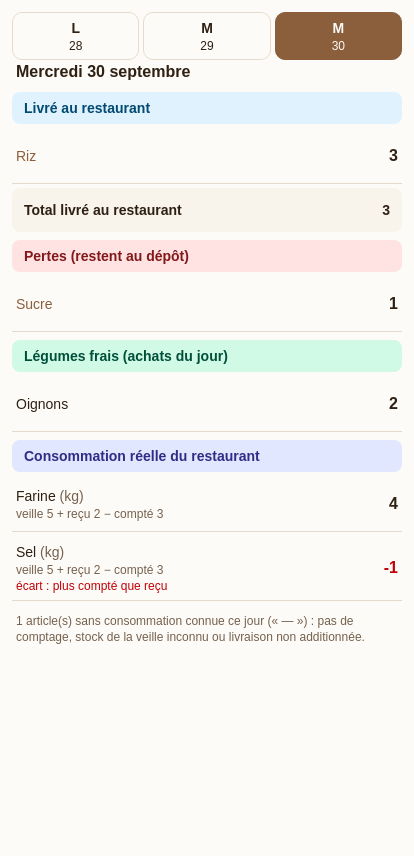
Test: Consommation sur téléphone › changer de jour change la liste ; un jour sans rien le dit
The width and height of the screenshot is (414, 856).
What coordinates should you click on to do the following:
click the button "M 29"
I would click on:
 (207, 36)
Its box is [143,12,271,60].
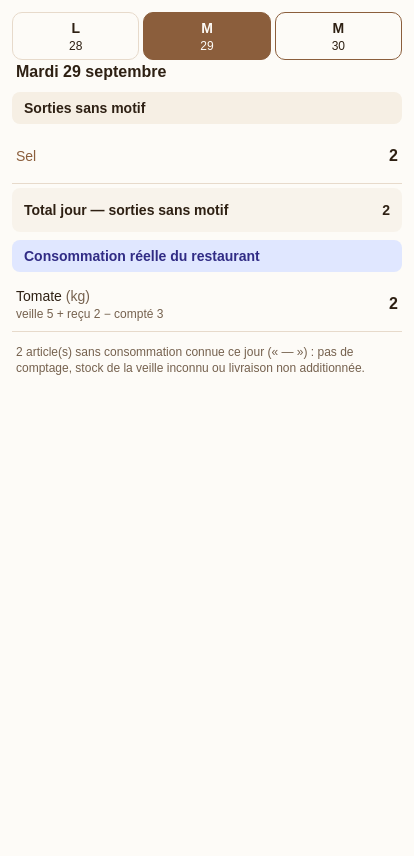
Check: the element that starts with "mardi 29 septembre" shows "Sel", box [16,148,36,164]
Check: the element that starts with "mardi 29 septembre" shows "Sorties sans motif", box [24,100,145,116]
Check: the element that starts with "mardi 29 septembre" shows "Tomate", box [16,288,62,304]
What coordinates should you click on to do the following:
click the button "L 28"
I would click on:
 (76, 36)
Its box is [12,12,139,60].
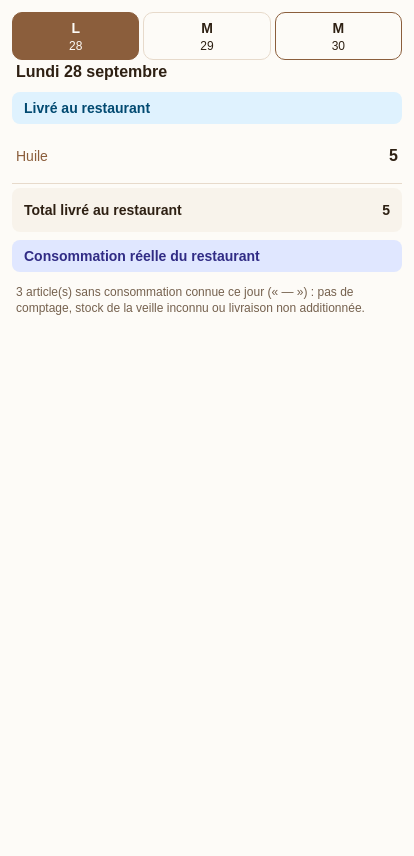
Check: the element that starts with "lundi 28 septembre" shows "Huile", box [16,148,48,164]
